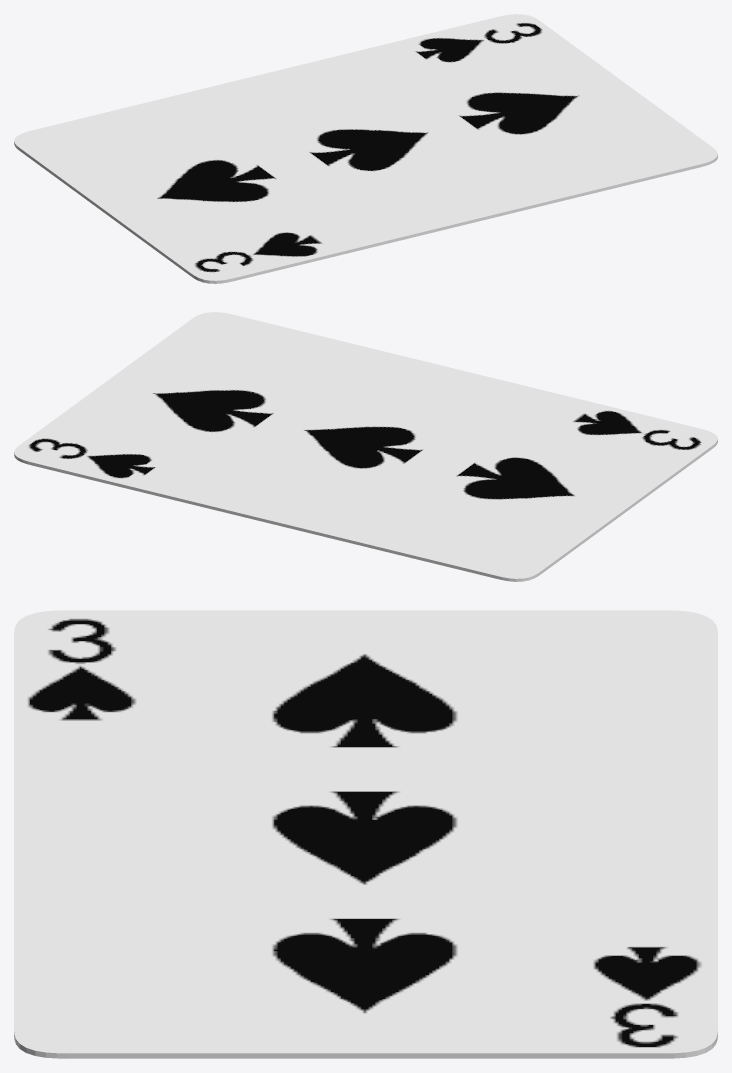
The model's file is 3_of_spades.gltf.
The picture shows the model from 3 angles, top to bottom: view 1: azimuth 30°, elevation 25°; view 2: azimuth 150°, elevation 25°; view 3: azimuth 270°, elevation 25°; orthographic projection. The views are drawn at different scales.
Visible parts, largest first — view 1: Plane; view 2: Plane; view 3: Plane.
Part boxes in pixels (<box>): Plane: <box>14,14,717,283</box>; Plane: <box>14,312,717,581</box>; Plane: <box>14,610,717,1058</box>.
Bounding box in the file's own units: 0.09 × 0.0005 × 0.0605.
Materials: 1 (1 with a texture image).
